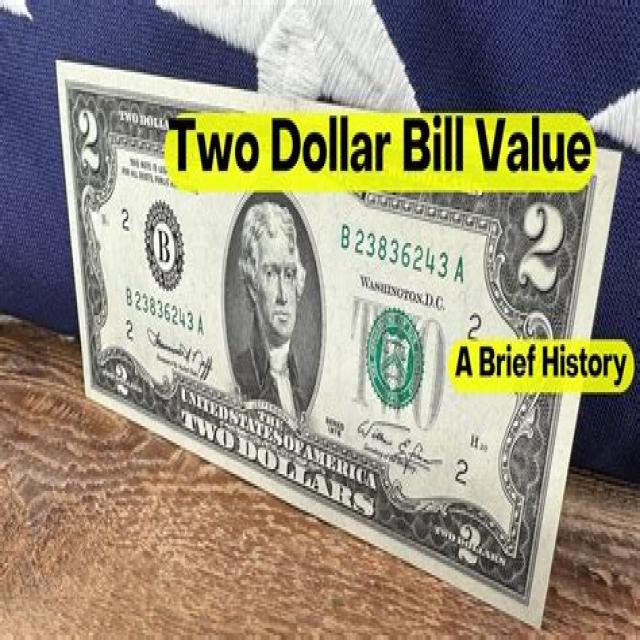Two: (56, 61, 622, 634)
